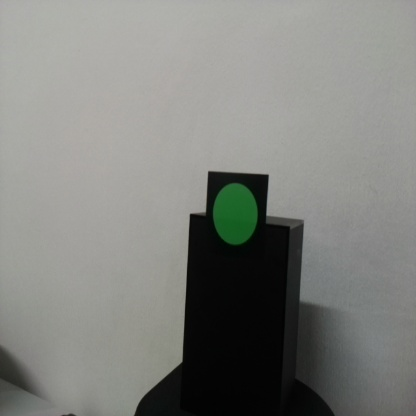id_5: (207, 172, 268, 264)
